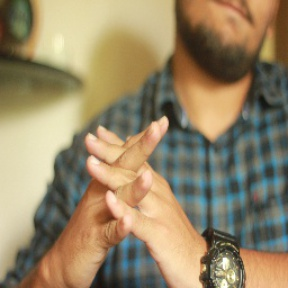W: (65, 108, 186, 280)
